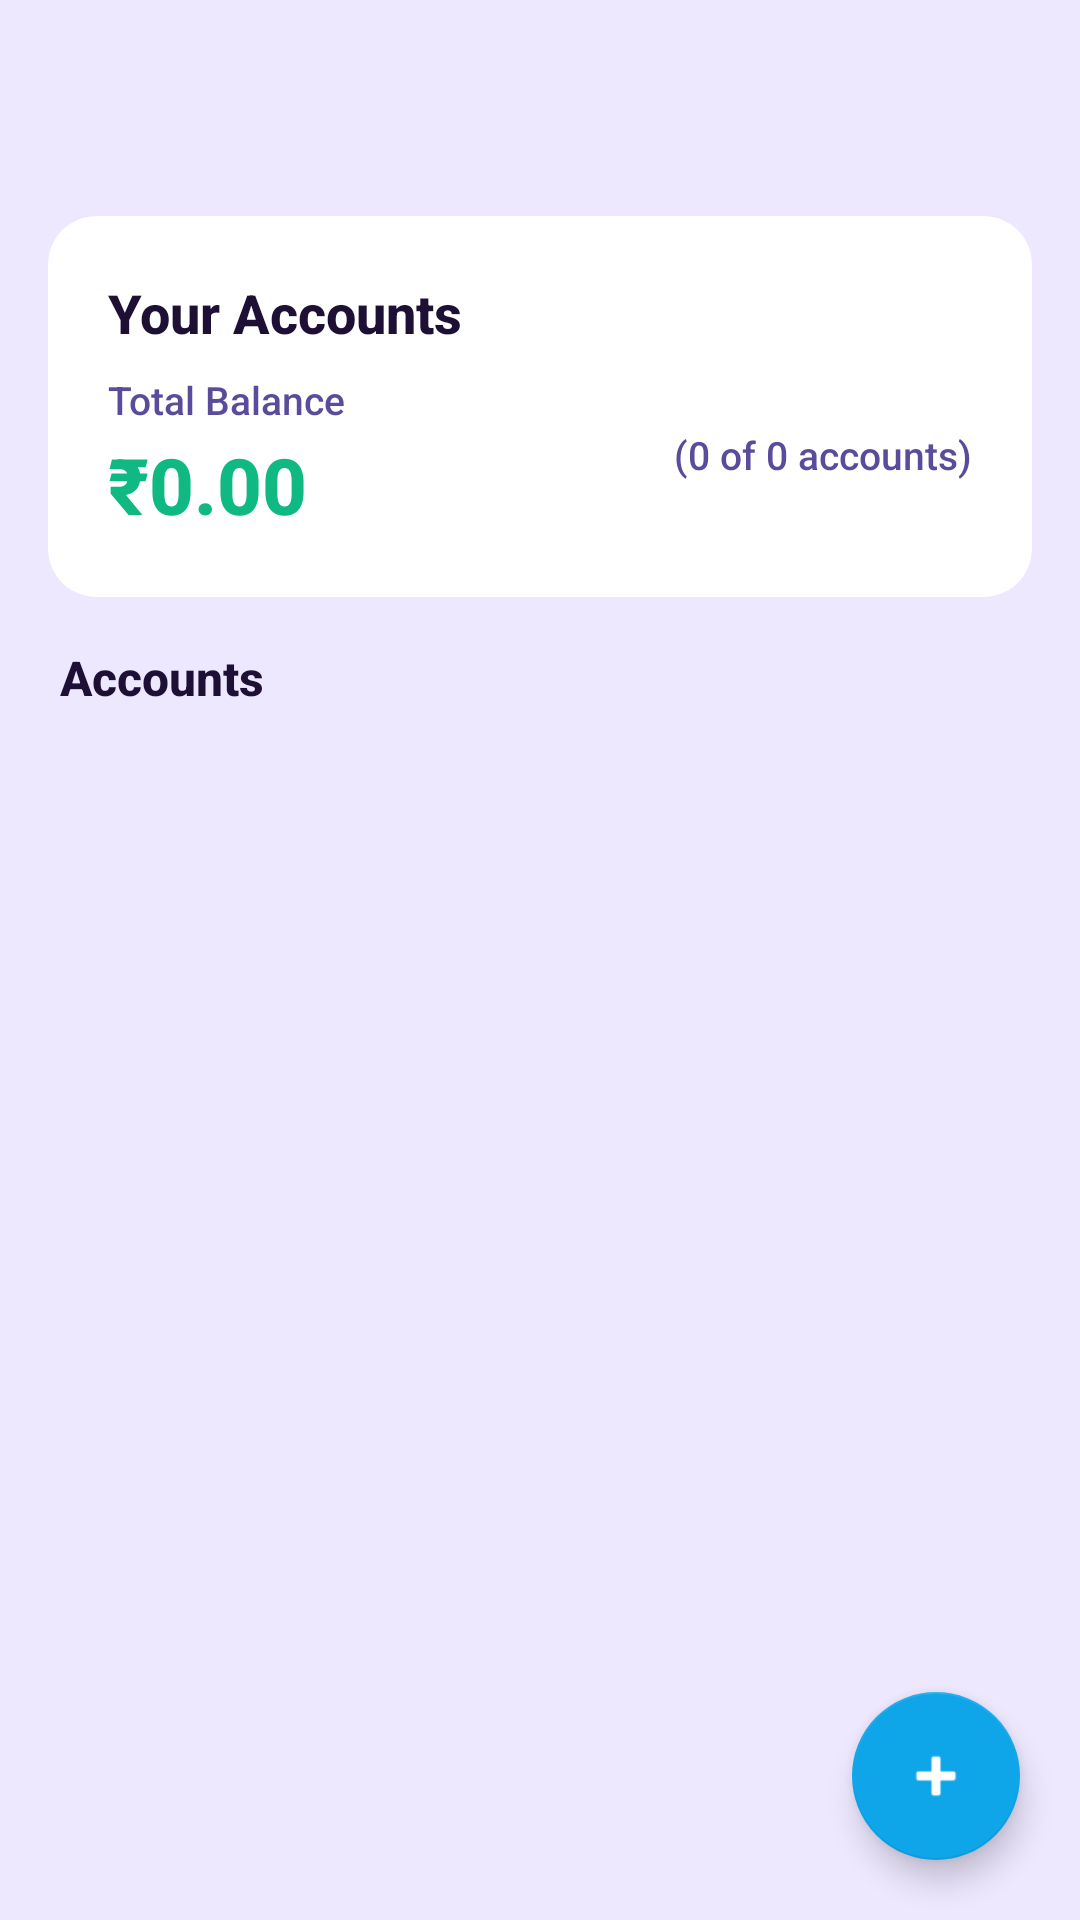

Point at icon controls on the screen. Image size 1080x1920, points as (x,y).
Add bank account: (936,1776)
